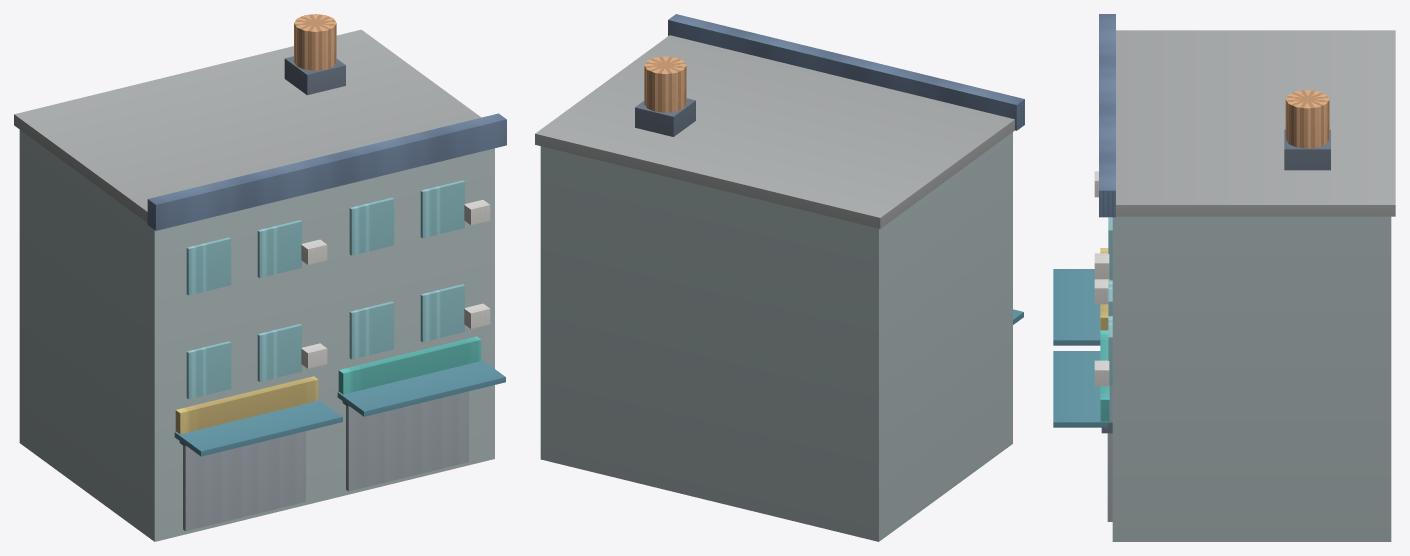
File: ruko_double.glb
3 views of the same model, side by side, from view 1: azimuth 30°, elevation 25°; view 2: azimuth 150°, elevation 25°; view 3: azimuth 270°, elevation 25° (orthographic). The views are drawn at different scales.
Visible parts, largest first — view 1: ruko_double; view 2: ruko_double; view 3: ruko_double.
Part boxes in pixels (bbox=[...]): ruko_double: bbox=[14, 14, 506, 541]; ruko_double: bbox=[535, 14, 1024, 541]; ruko_double: bbox=[1053, 14, 1395, 541].
Size of the model in its own units: 9.9 by 10.45 by 8.1.
Materials: 1 (1 with a texture image).
